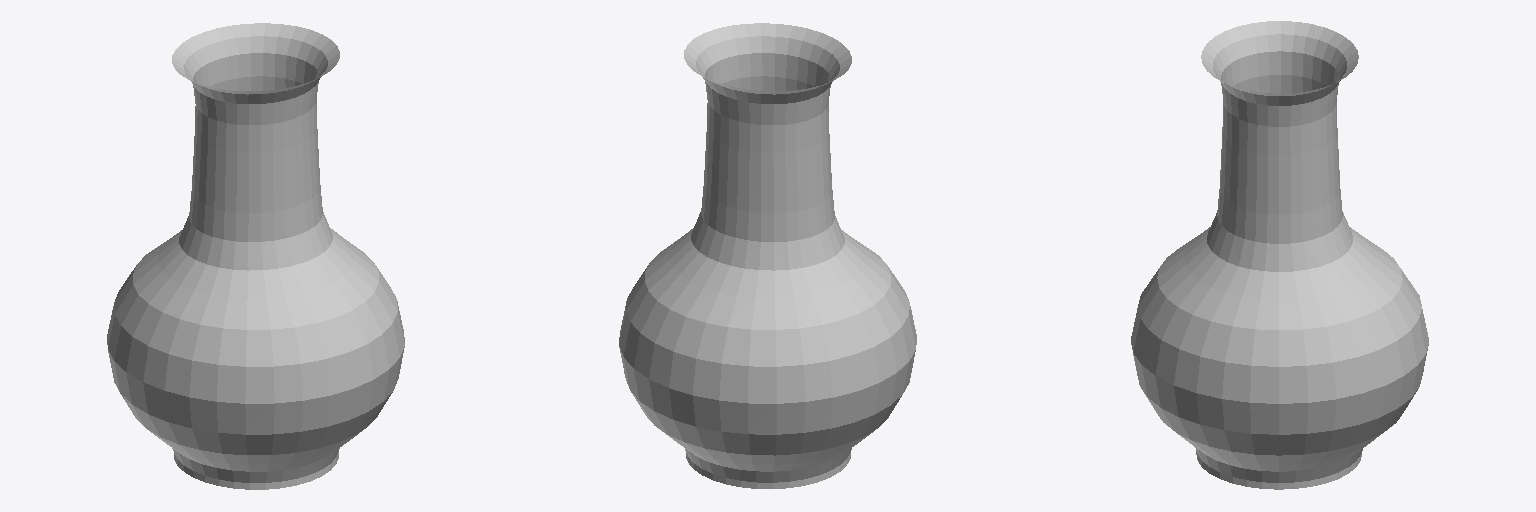
Rendered from bottle.obj.
3 renders of one model, left to right at view 1: azimuth 30°, elevation 25°; view 2: azimuth 150°, elevation 25°; view 3: azimuth 270°, elevation 25°, orthographic.
Visible parts, largest first — view 1: NurbsPath; view 2: NurbsPath; view 3: NurbsPath.
Part boxes in pixels (bbox=[...]): NurbsPath: bbox=[107, 23, 404, 489]; NurbsPath: bbox=[619, 23, 916, 488]; NurbsPath: bbox=[1131, 21, 1428, 489].
Bounding box in the file's own units: 0.7545 × 1.11 × 0.7545.